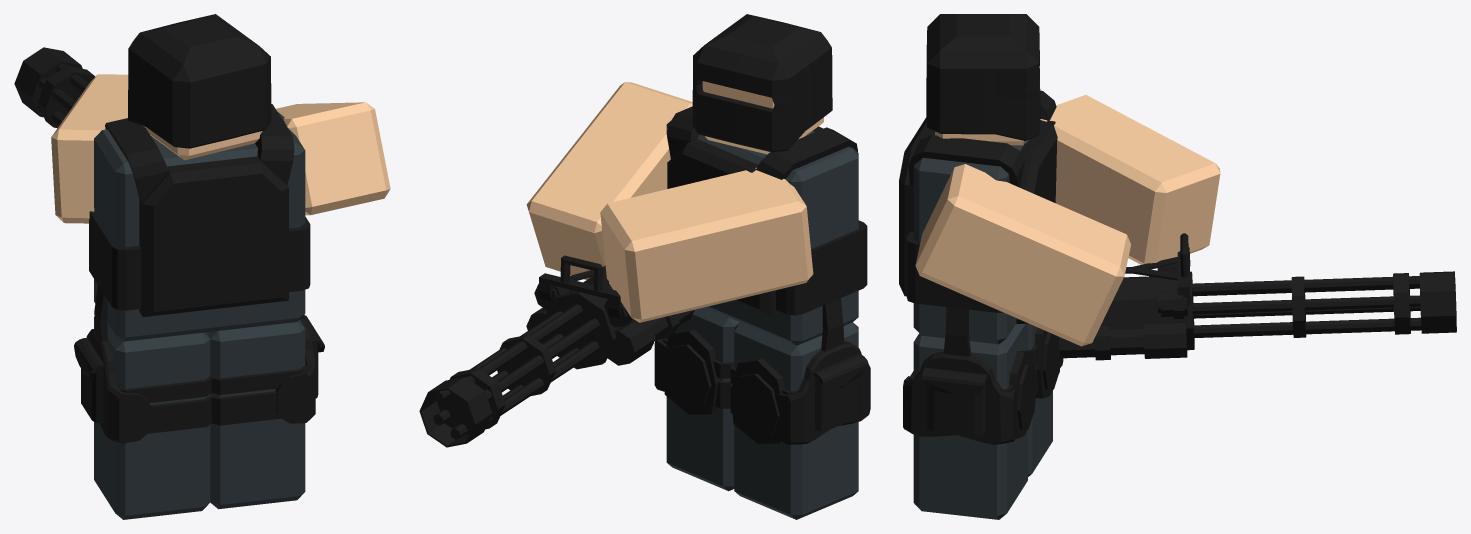
The picture shows the model from 3 angles, left to right: view 1: azimuth 30°, elevation 25°; view 2: azimuth 150°, elevation 25°; view 3: azimuth 270°, elevation 25°; orthographic projection. The views are drawn at different scales.
Visible parts, largest first — view 1: SWAT.Torso, SWAT.Legs, SWAT.Arm_R, SWAT.Arm_L; view 2: SWAT.Torso, SWAT.Legs, SWAT.Arm_R, SWAT.Arm_L; view 3: SWAT.Arm_R, SWAT.Torso, SWAT.Legs, SWAT.Arm_L.
Part boxes in pixels (x1,y1,x2,y2): SWAT.Torso: [89, 14, 310, 341]; SWAT.Legs: [74, 285, 324, 519]; SWAT.Arm_R: [14, 47, 390, 215]; SWAT.Arm_L: [51, 74, 128, 223]; SWAT.Torso: [666, 14, 867, 345]; SWAT.Legs: [654, 298, 870, 519]; SWAT.Arm_R: [419, 82, 694, 447]; SWAT.Arm_L: [600, 167, 813, 322]; SWAT.Arm_R: [915, 164, 1456, 360]; SWAT.Torso: [899, 14, 1057, 344]; SWAT.Legs: [903, 307, 1063, 519]; SWAT.Arm_L: [1040, 95, 1220, 264].
Size of the model in its own units: 332 by 518 by 576.
